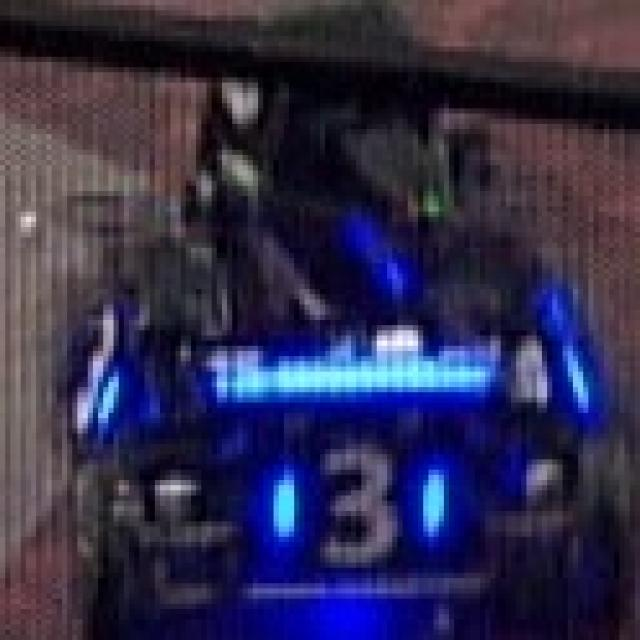B3: (261, 436, 462, 576), (54, 294, 137, 439)
